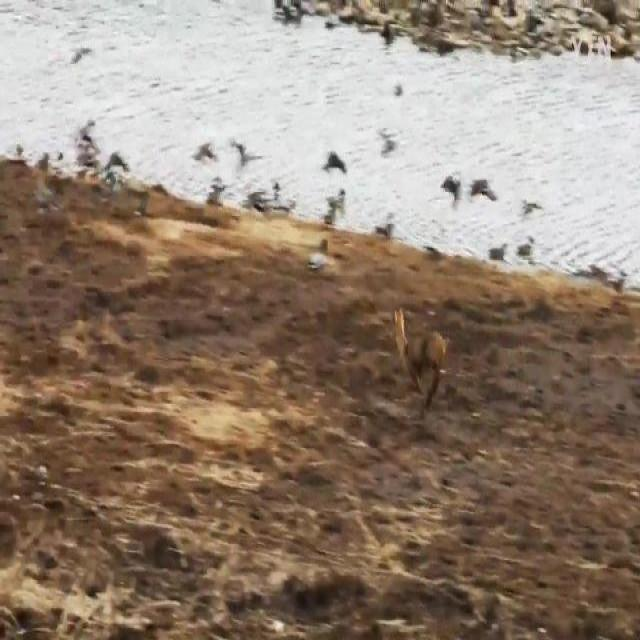deer: (386, 305, 450, 411)
